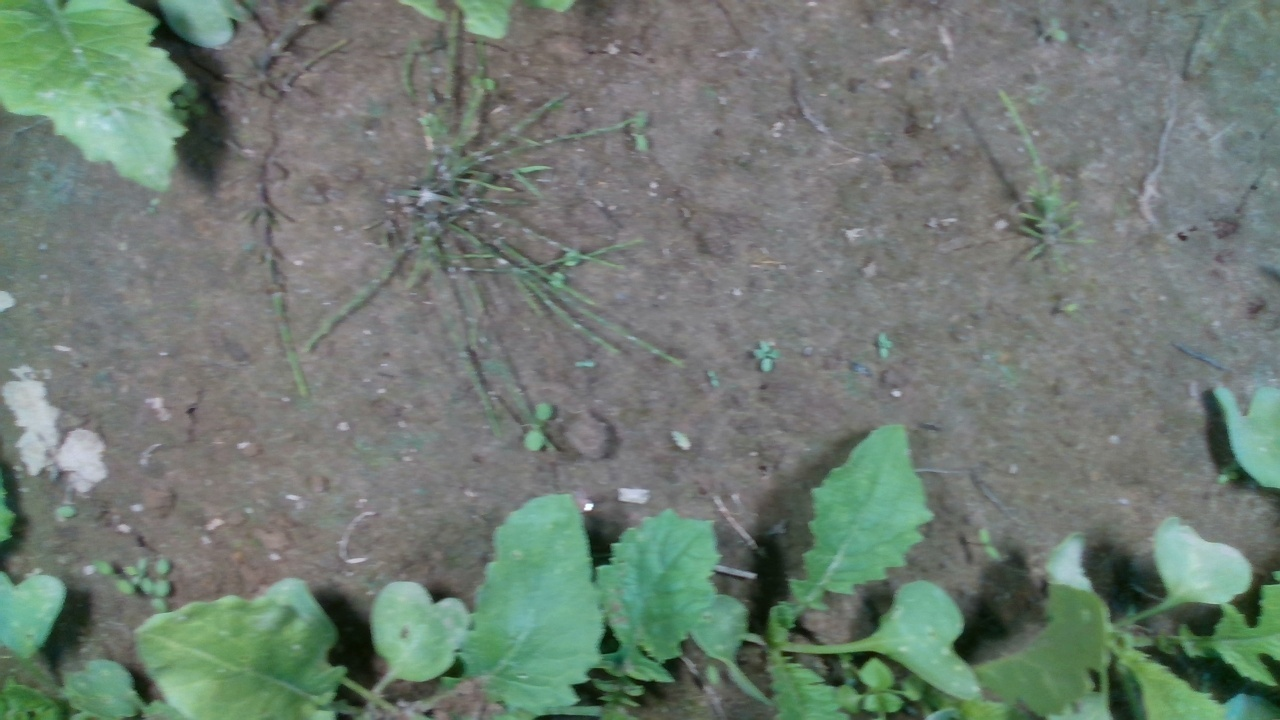weed: (751, 336, 779, 375), (874, 326, 893, 361), (705, 368, 721, 391)
